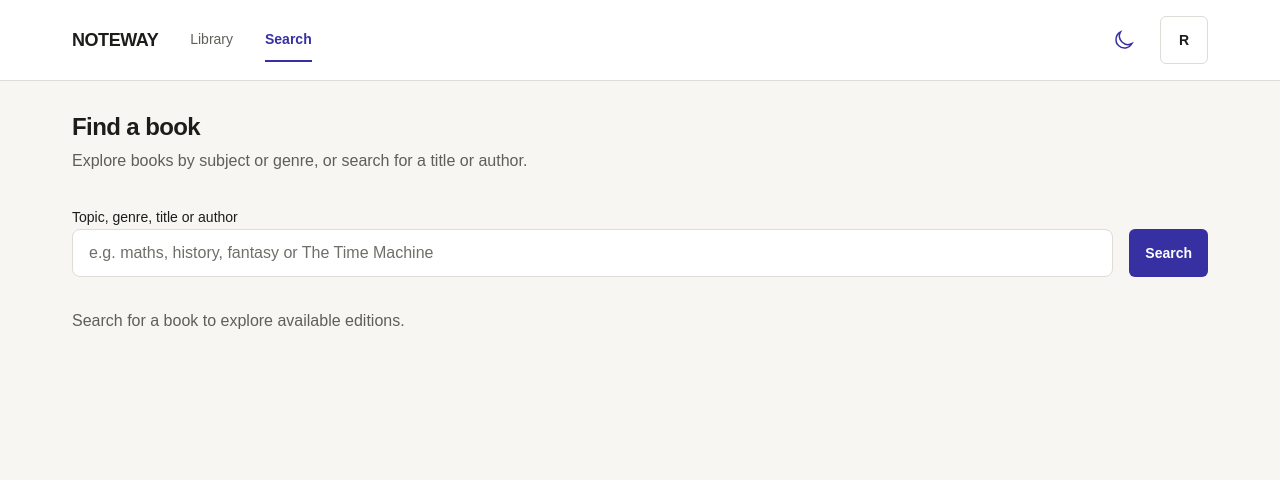
Test: automatically checked search results › shows accessible results without an inspection button or second request
This screenshot has width=1280, height=480.
Type "Lantern" into the search field labelled "Topic, genre, title or author" at (593, 253), box [72,229,1113,277]
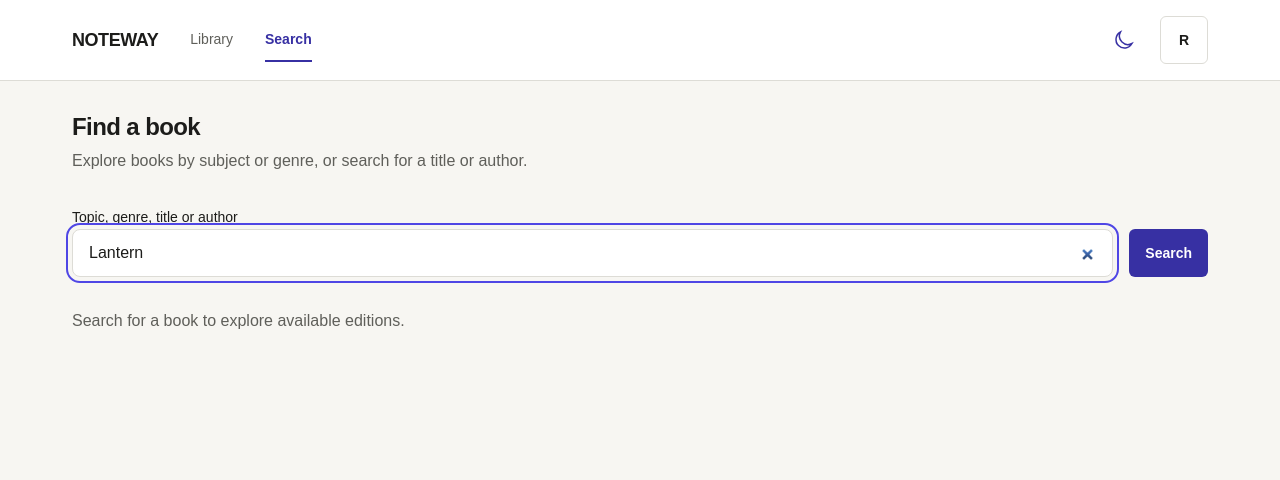
Click the button "Search" at (1169, 253), box [1129,229,1208,277]
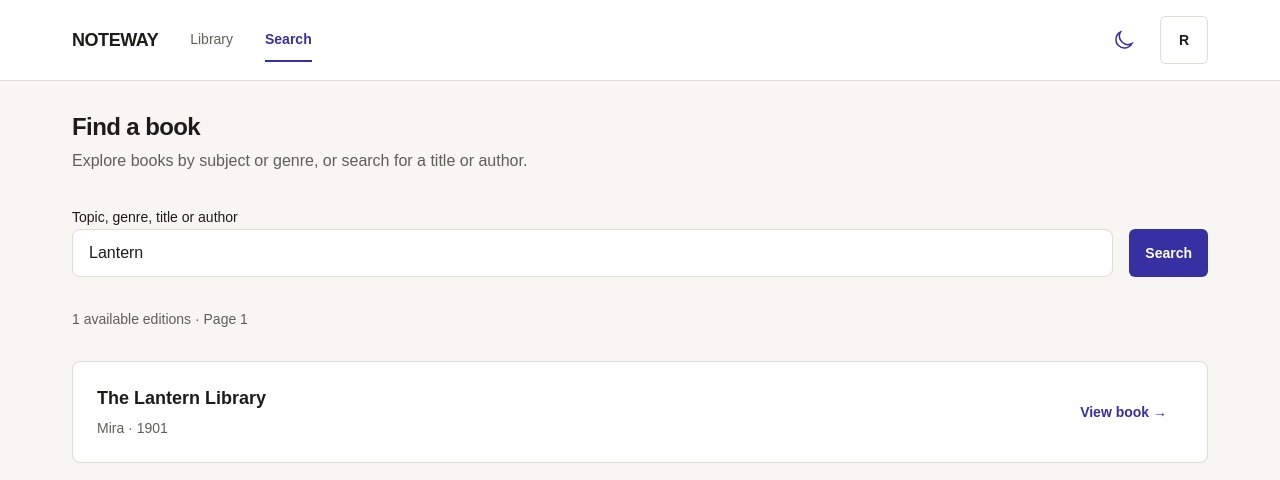
Check: the heading "The Lantern Library" is shown, box [97,386,266,410]
Check: the link "View book →" is shown, box [1080,404,1167,420]
